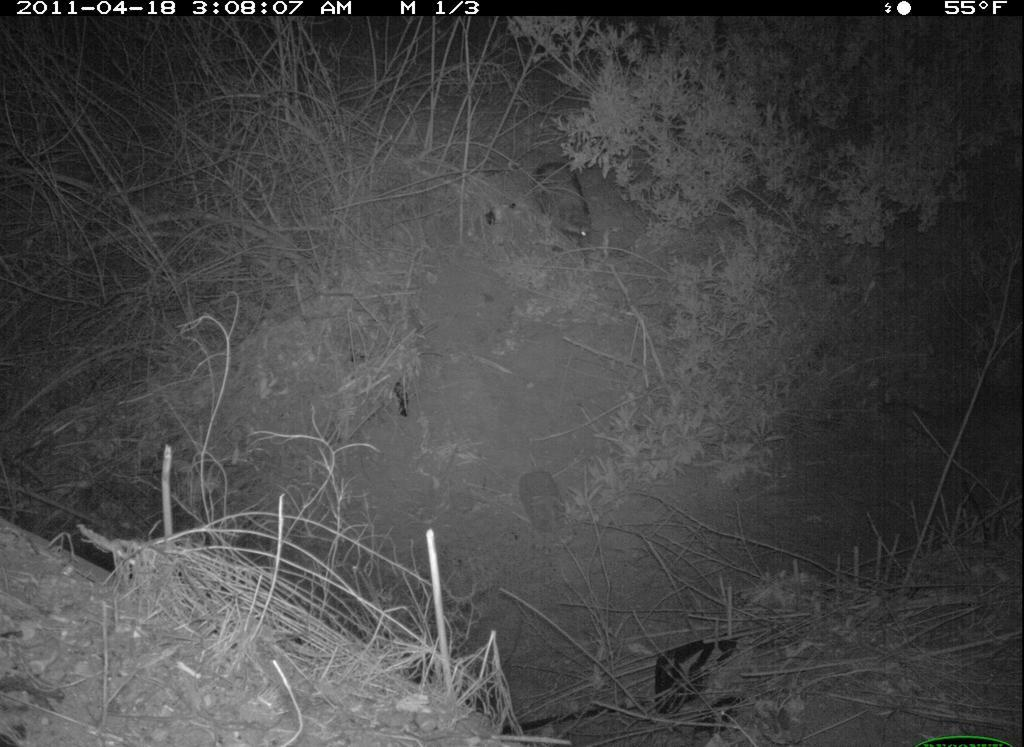raccoon: (513, 146, 614, 264)
